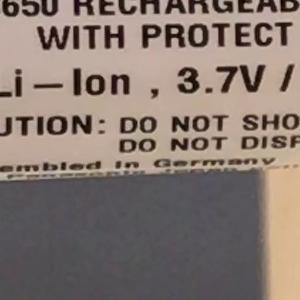3.7V: (167, 55, 275, 104)
